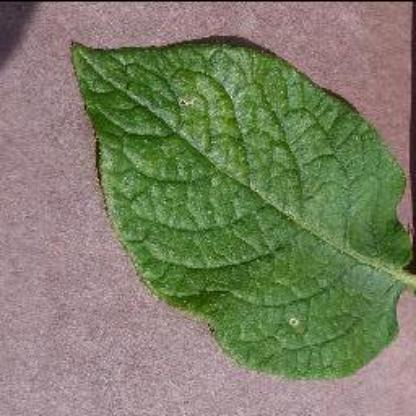Healthy-plant: (50, 17, 414, 390)
